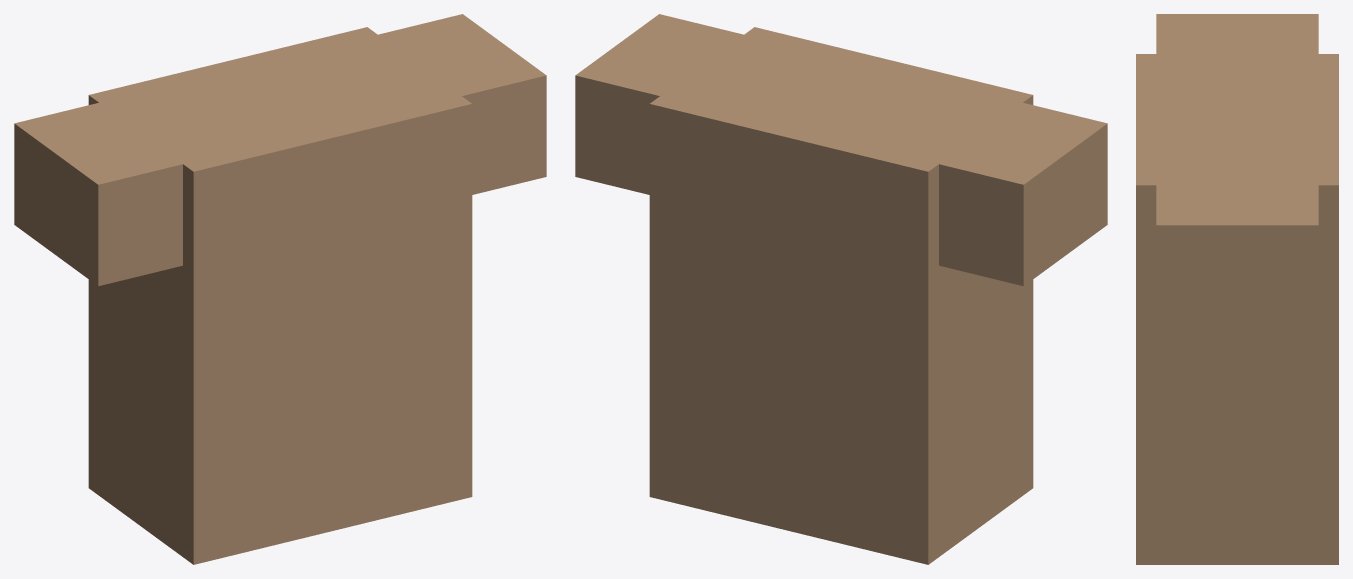
The model's file is leather_chest.glb.
3 renders of one model, left to right at view 1: azimuth 30°, elevation 25°; view 2: azimuth 150°, elevation 25°; view 3: azimuth 270°, elevation 25°, orthographic. The views are drawn at different scales.
Parts seen in each view (by area): view 1: leather_chest; view 2: leather_chest; view 3: leather_chest.
Boxes of the visible parts, x1=… form: leather_chest: x1=14, y1=14, x2=546, y2=564; leather_chest: x1=575, y1=14, x2=1107, y2=564; leather_chest: x1=1136, y1=14, x2=1338, y2=564.
Bounding box in the file's own units: 0.74 × 0.62 × 0.3.
